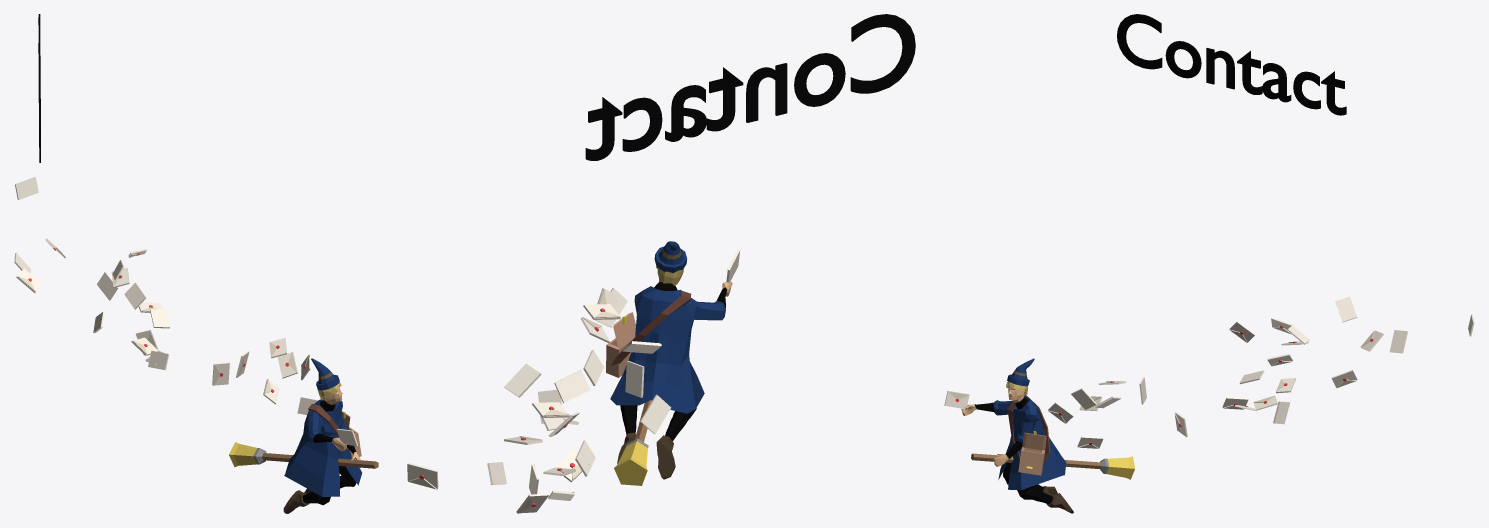
File: contact.glb
The picture shows the model from 3 angles, left to right: view 1: azimuth 30°, elevation 25°; view 2: azimuth 150°, elevation 25°; view 3: azimuth 270°, elevation 25°; orthographic projection. The views are drawn at different scales.
Visible parts, largest first — view 1: Cylinder.028; view 2: Cylinder.028, Text.012, Cube.104, Cube.113, Cube.109, Cube.098, Cube.111; view 3: Cylinder.028, Text.012.
Part boxes in pixels (bbox=[...]): Cylinder.028: bbox=[229, 358, 378, 513]; Cylinder.028: bbox=[606, 241, 732, 485]; Text.012: bbox=[585, 14, 915, 160]; Cube.104: bbox=[554, 370, 589, 403]; Cube.113: bbox=[640, 394, 671, 434]; Cube.109: bbox=[504, 363, 541, 397]; Cube.098: bbox=[407, 462, 438, 489]; Cube.111: bbox=[625, 360, 644, 397]; Cylinder.028: bbox=[961, 358, 1134, 513]; Text.012: bbox=[1117, 14, 1346, 115].
Size of the model in its own units: 4.86 by 7.32 by 8.81.
